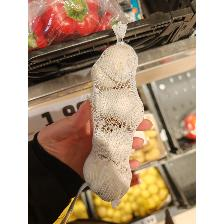Knoblauch: (82, 19, 144, 207)
